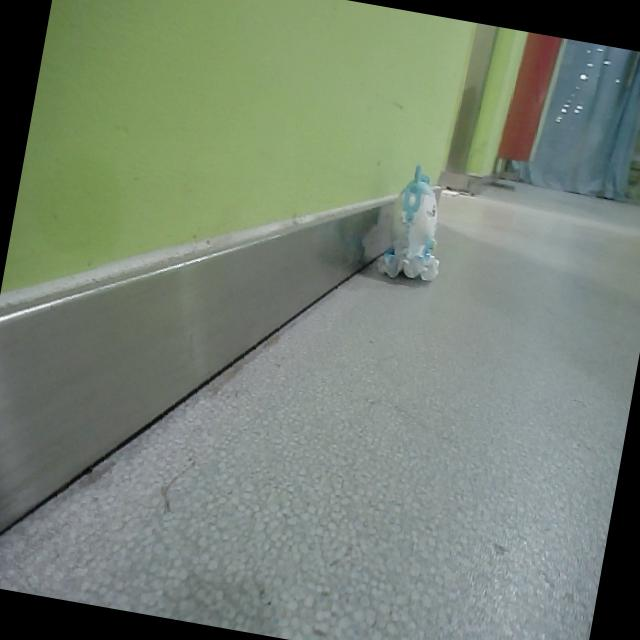xiaoba: (376, 154, 458, 286)
